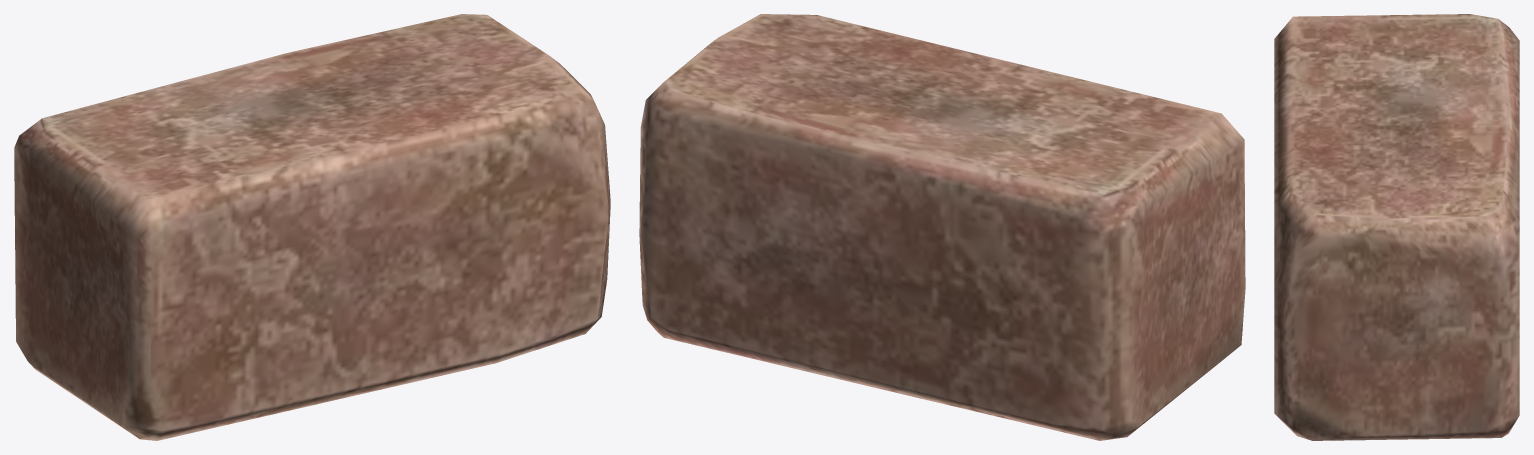
3 renders of one model, left to right at view 1: azimuth 30°, elevation 25°; view 2: azimuth 150°, elevation 25°; view 3: azimuth 270°, elevation 25°, orthographic. The views are drawn at different scales.
Parts seen in each view (by area): view 1: SM_Human_Ruins_Brick_05_LOD0; view 2: SM_Human_Ruins_Brick_05_LOD0; view 3: SM_Human_Ruins_Brick_05_LOD0.
Part boxes in pixels (box(x1,y1,x2,y2)): SM_Human_Ruins_Brick_05_LOD0: box(14, 14, 610, 440); SM_Human_Ruins_Brick_05_LOD0: box(639, 14, 1245, 440); SM_Human_Ruins_Brick_05_LOD0: box(1274, 14, 1519, 440).
Bounding box in the file's own units: 0.2601 × 0.125 × 0.125.
Materials: 1 (1 with a texture image).
